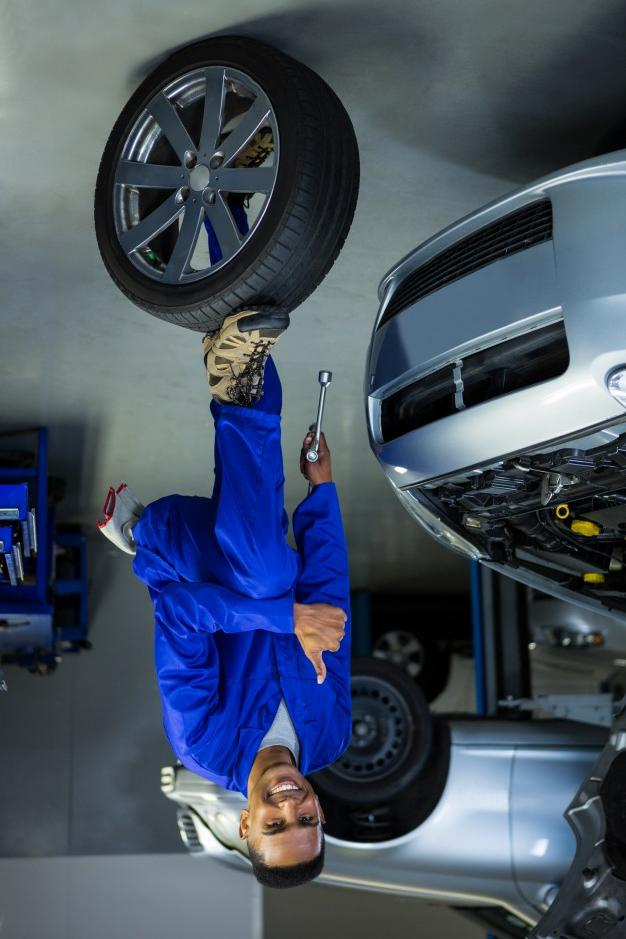thumbsdown: (311, 603, 348, 685)
